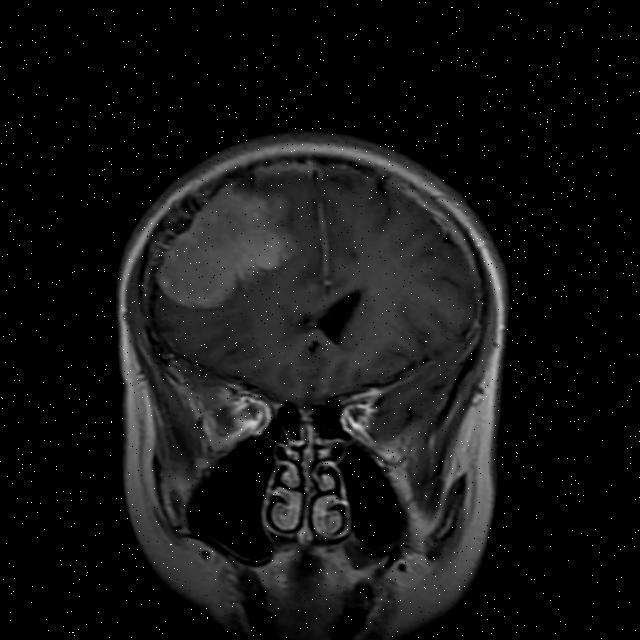Meningioma: (149, 171, 307, 325)
